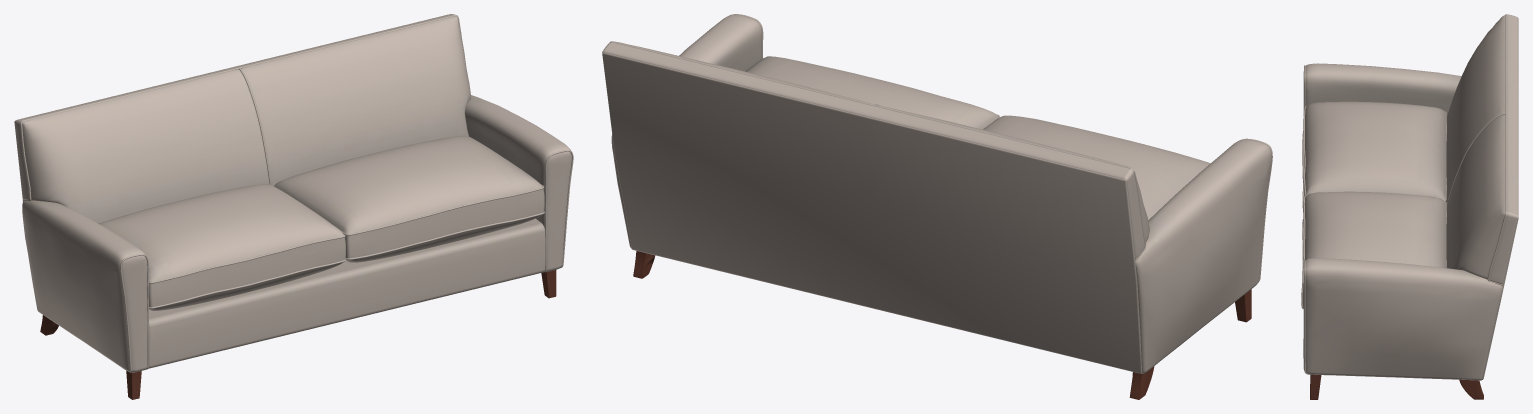
The picture shows the model from 3 angles, left to right: view 1: azimuth 30°, elevation 25°; view 2: azimuth 150°, elevation 25°; view 3: azimuth 270°, elevation 25°; orthographic projection. The views are drawn at different scales.
Parts seen in each view (by area): view 1: RootNode; view 2: RootNode; view 3: RootNode.
Part boxes in pixels (x1,y1,x2,y2): RootNode: (14, 14, 573, 399); RootNode: (602, 14, 1272, 399); RootNode: (1301, 14, 1518, 399).
Size of the model in its own units: 2 by 0.8461 by 0.8751.
1 material, 1 textured.
